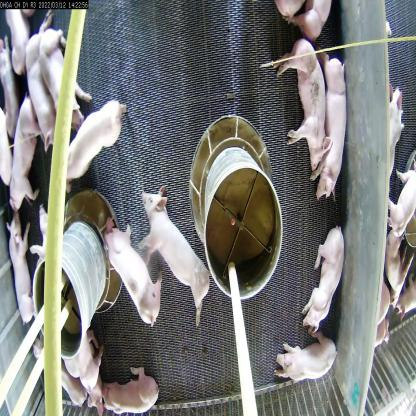Pig: (140, 178, 217, 316), (35, 21, 91, 136), (312, 53, 353, 202), (280, 40, 326, 171), (103, 221, 160, 324), (64, 100, 126, 184), (4, 200, 38, 341), (308, 226, 350, 332), (20, 33, 56, 145), (9, 94, 38, 219), (103, 359, 162, 415), (283, 330, 333, 389), (66, 319, 96, 400)
